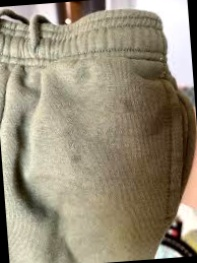oil: (68, 147, 84, 167)
